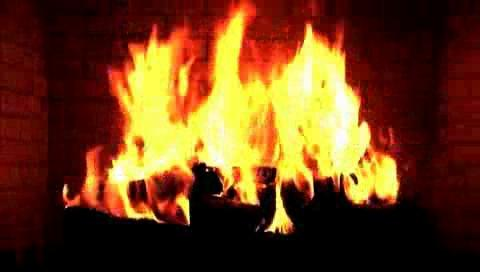fire: (68, 0, 451, 230)
